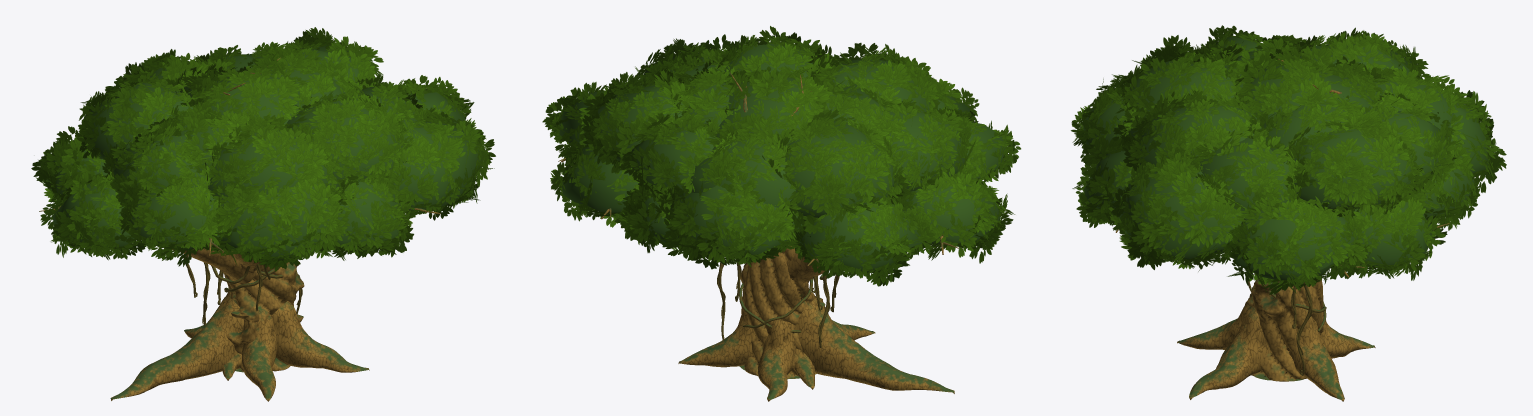
Rendered from ArbolGuardian.glb.
3 renders of one model, left to right at view 1: azimuth 30°, elevation 25°; view 2: azimuth 150°, elevation 25°; view 3: azimuth 270°, elevation 25°, orthographic. The views are drawn at different scales.
Parts seen in each view (by area): view 1: Hojas, Copa, Raices, Tronco, Lianas; view 2: Hojas, Copa, Raices, Tronco, Lianas; view 3: Hojas, Copa, Raices, Tronco, Lianas.
Boxes of the visible parts, x1,y1,x2,y2 form: Hojas: (31, 27, 495, 271); Copa: (46, 44, 481, 260); Raices: (110, 292, 369, 401); Tronco: (39, 57, 440, 372); Lianas: (183, 255, 302, 325); Hojas: (542, 26, 1021, 286); Copa: (559, 44, 1005, 272); Raices: (678, 298, 954, 401); Tronco: (558, 73, 959, 379); Lianas: (717, 262, 839, 347); Hojas: (1071, 25, 1506, 294); Copa: (1081, 37, 1488, 280); Raices: (1177, 295, 1375, 401); Tronco: (1115, 59, 1449, 381); Lianas: (1246, 273, 1326, 375).
Size of the model in its own units: 15.47 by 9.77 by 12.77.
5 materials, 4 textured.
